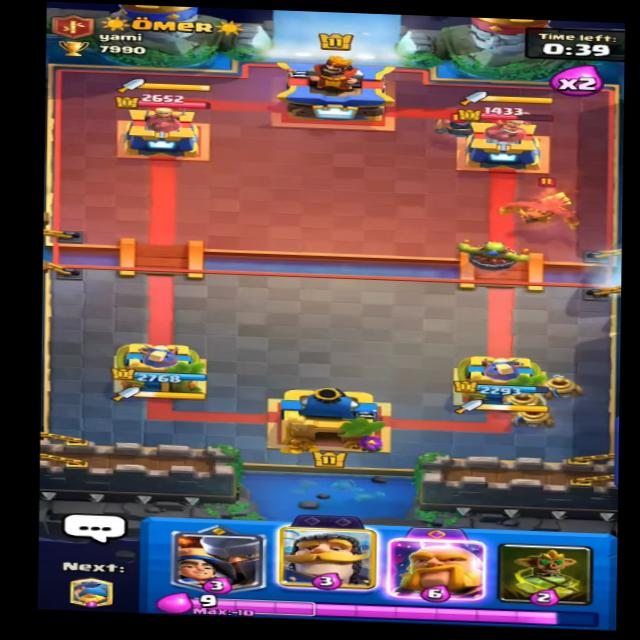Minipekka: (435, 111, 484, 137)
Pheonix: (487, 172, 608, 231)
